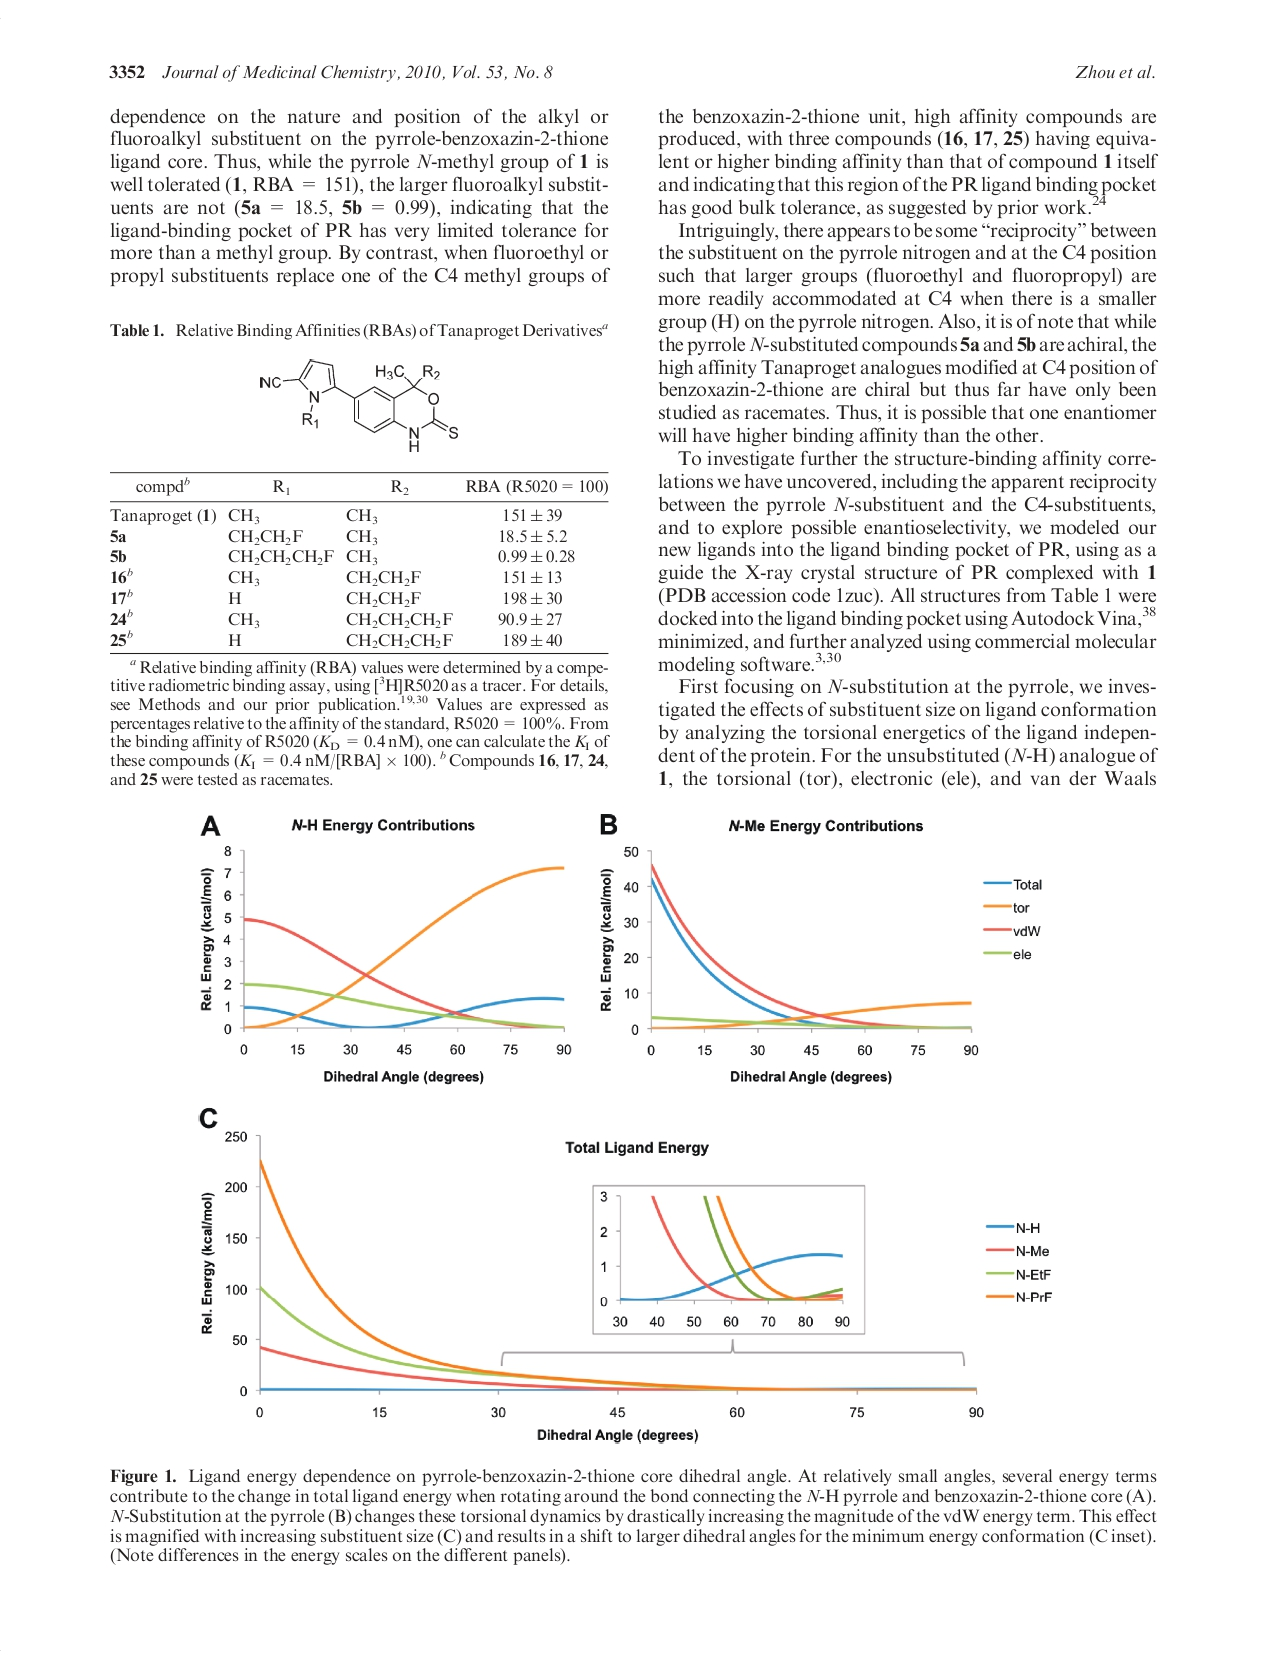exist_molecular: (257, 356, 469, 460)
